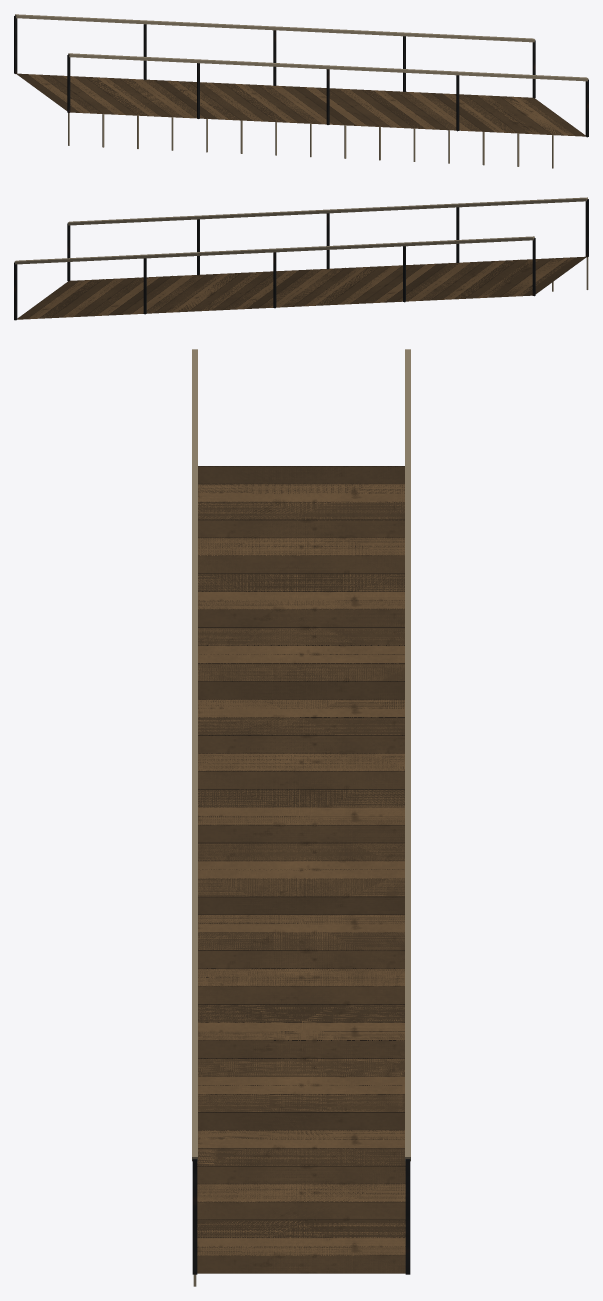
Rendered from A_gangway.glb.
3 renders of one model, top to bottom at view 1: azimuth 30°, elevation 25°; view 2: azimuth 150°, elevation 25°; view 3: azimuth 270°, elevation 25°, orthographic. The views are drawn at different scales.
Visible parts, largest first — view 1: A_gangway; view 2: A_gangway; view 3: A_gangway.
Part boxes in pixels (x1,y1,x2,y2): A_gangway: (14,14,588,168); A_gangway: (14,197,588,320); A_gangway: (192,349,410,1286).
Size of the model in its own units: 9.03 by 3.86 by 1.64.
Materials: 4 (3 with a texture image).
